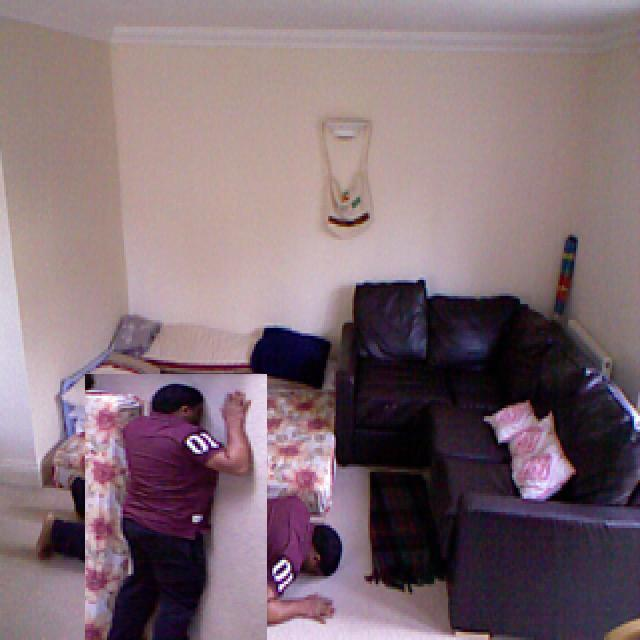Fall: (89, 377, 257, 640)
